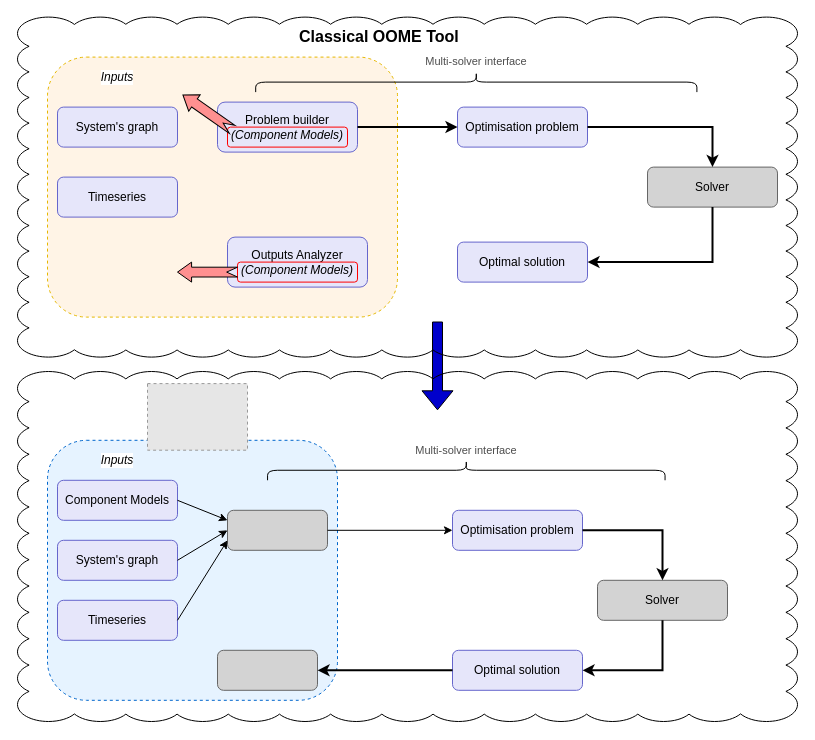
The diagram is 815 pixels wide and 740 high, and some of its shapes have lost their labels. Grey dashed boxes stand in for pictures. The centre of each missing label's shape, as x and y in pixels:
Interpreter: point 277,529
Outputs Analyzer: point 267,669
